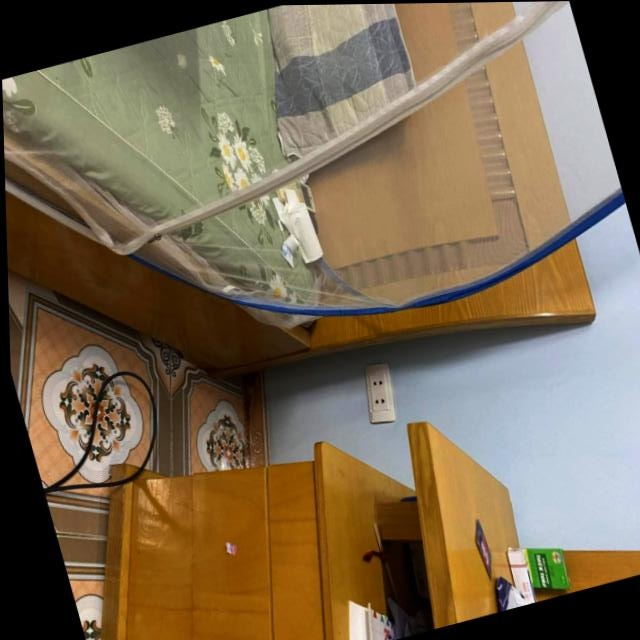outlet: (356, 359, 406, 427)
